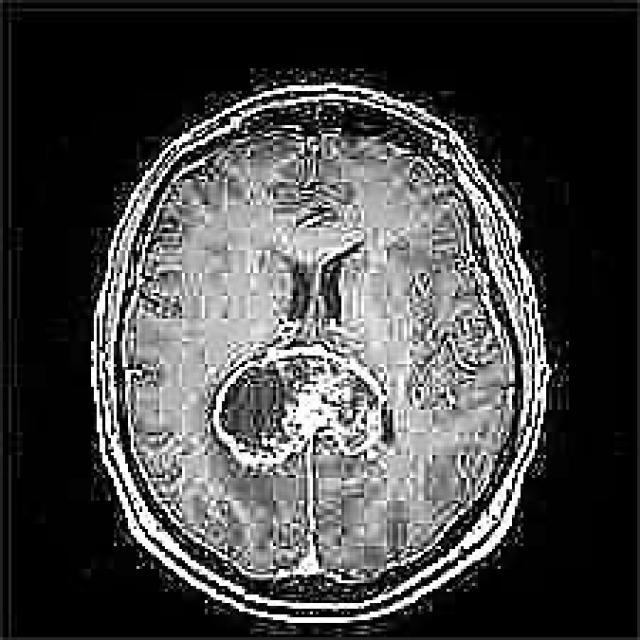brain tumor: (210, 347, 390, 475)
